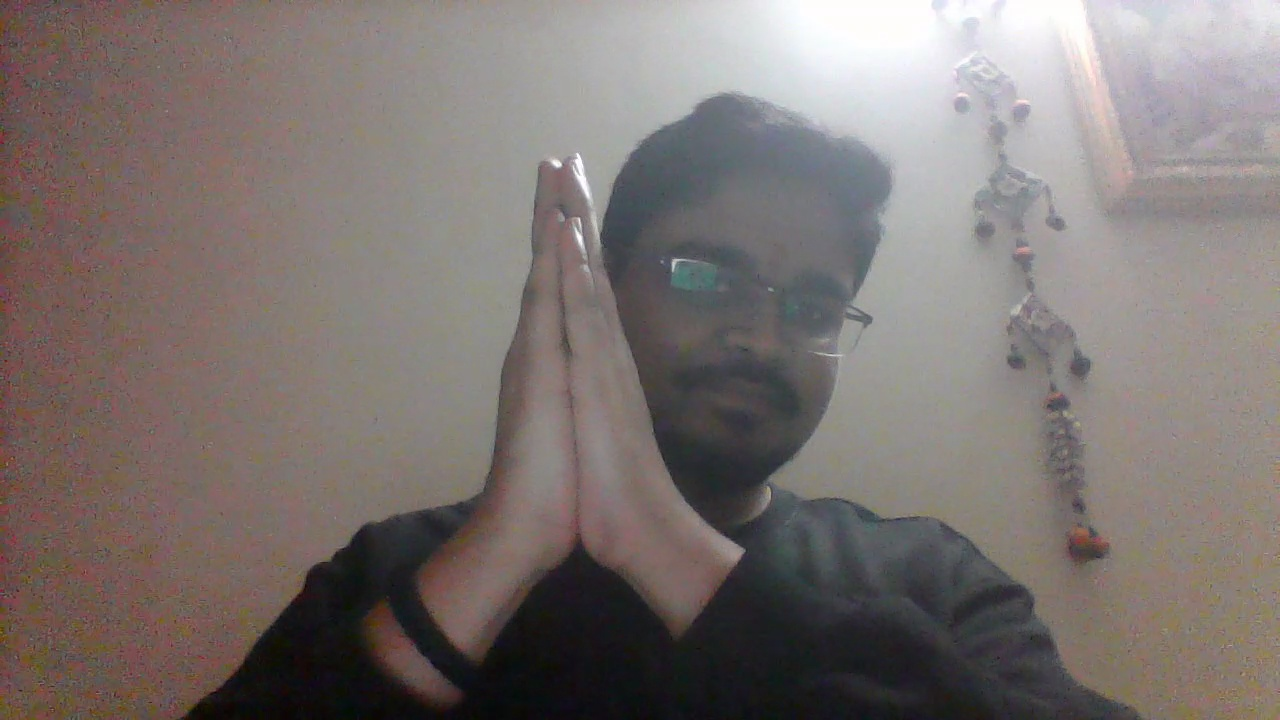Namaste: (453, 147, 684, 644)
